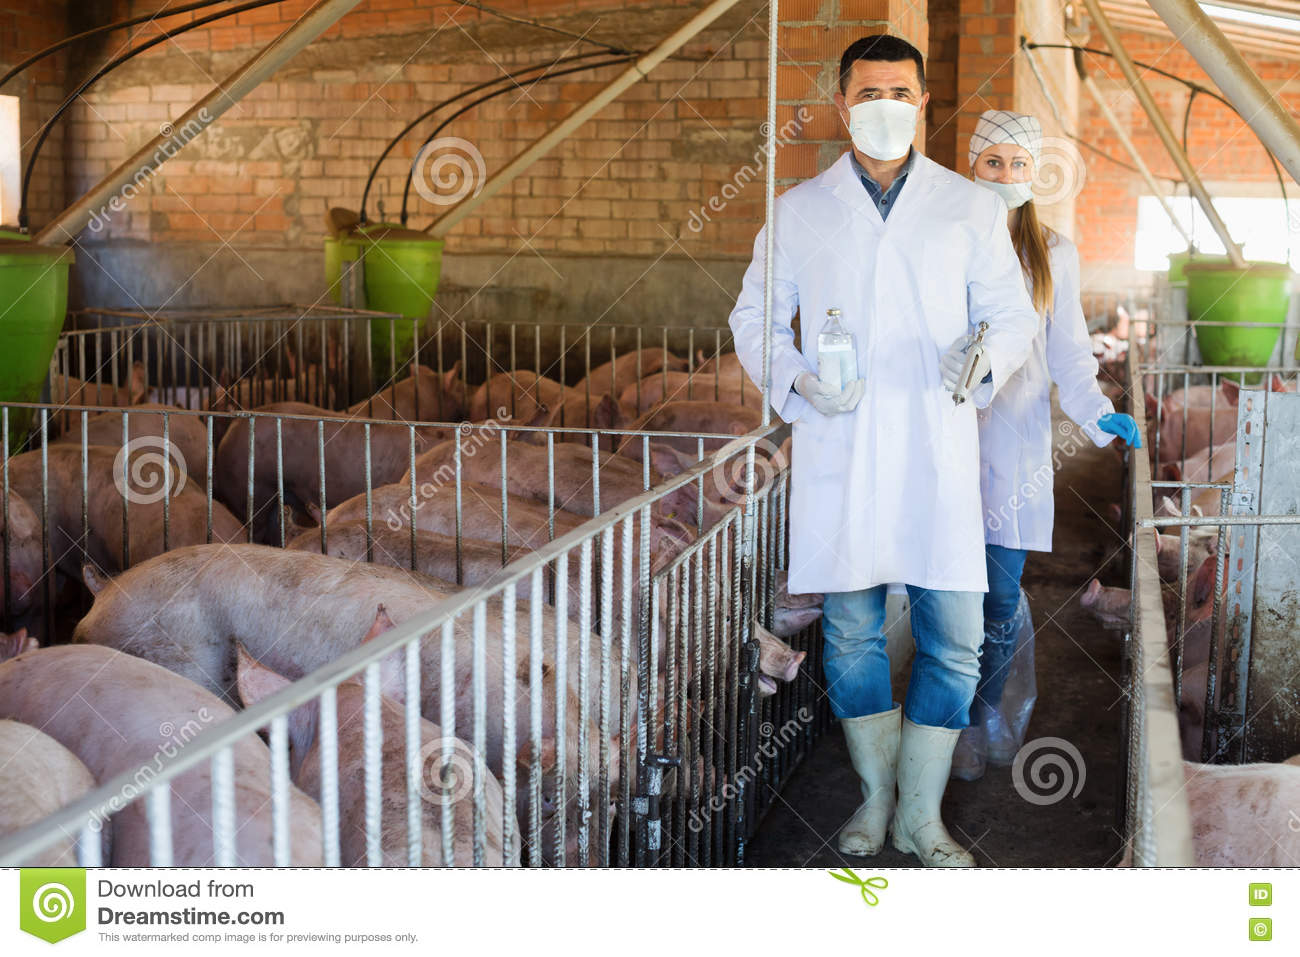mask: (853, 105, 933, 167), (979, 174, 1038, 211)
